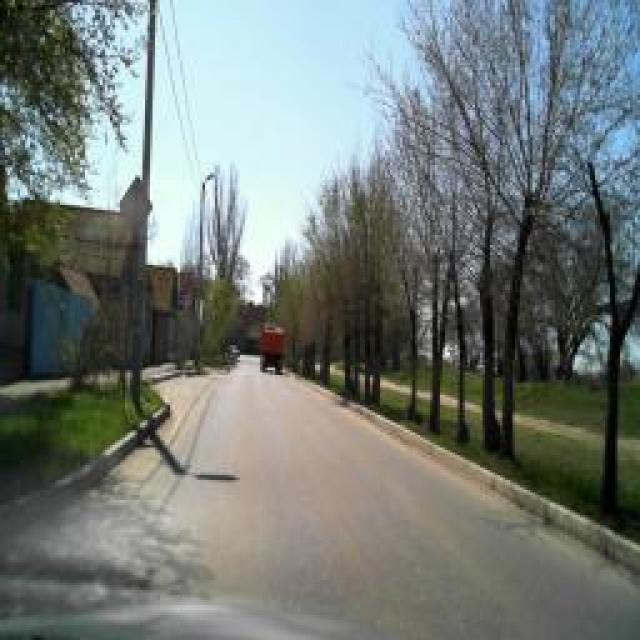sign: (176, 289, 186, 311)
